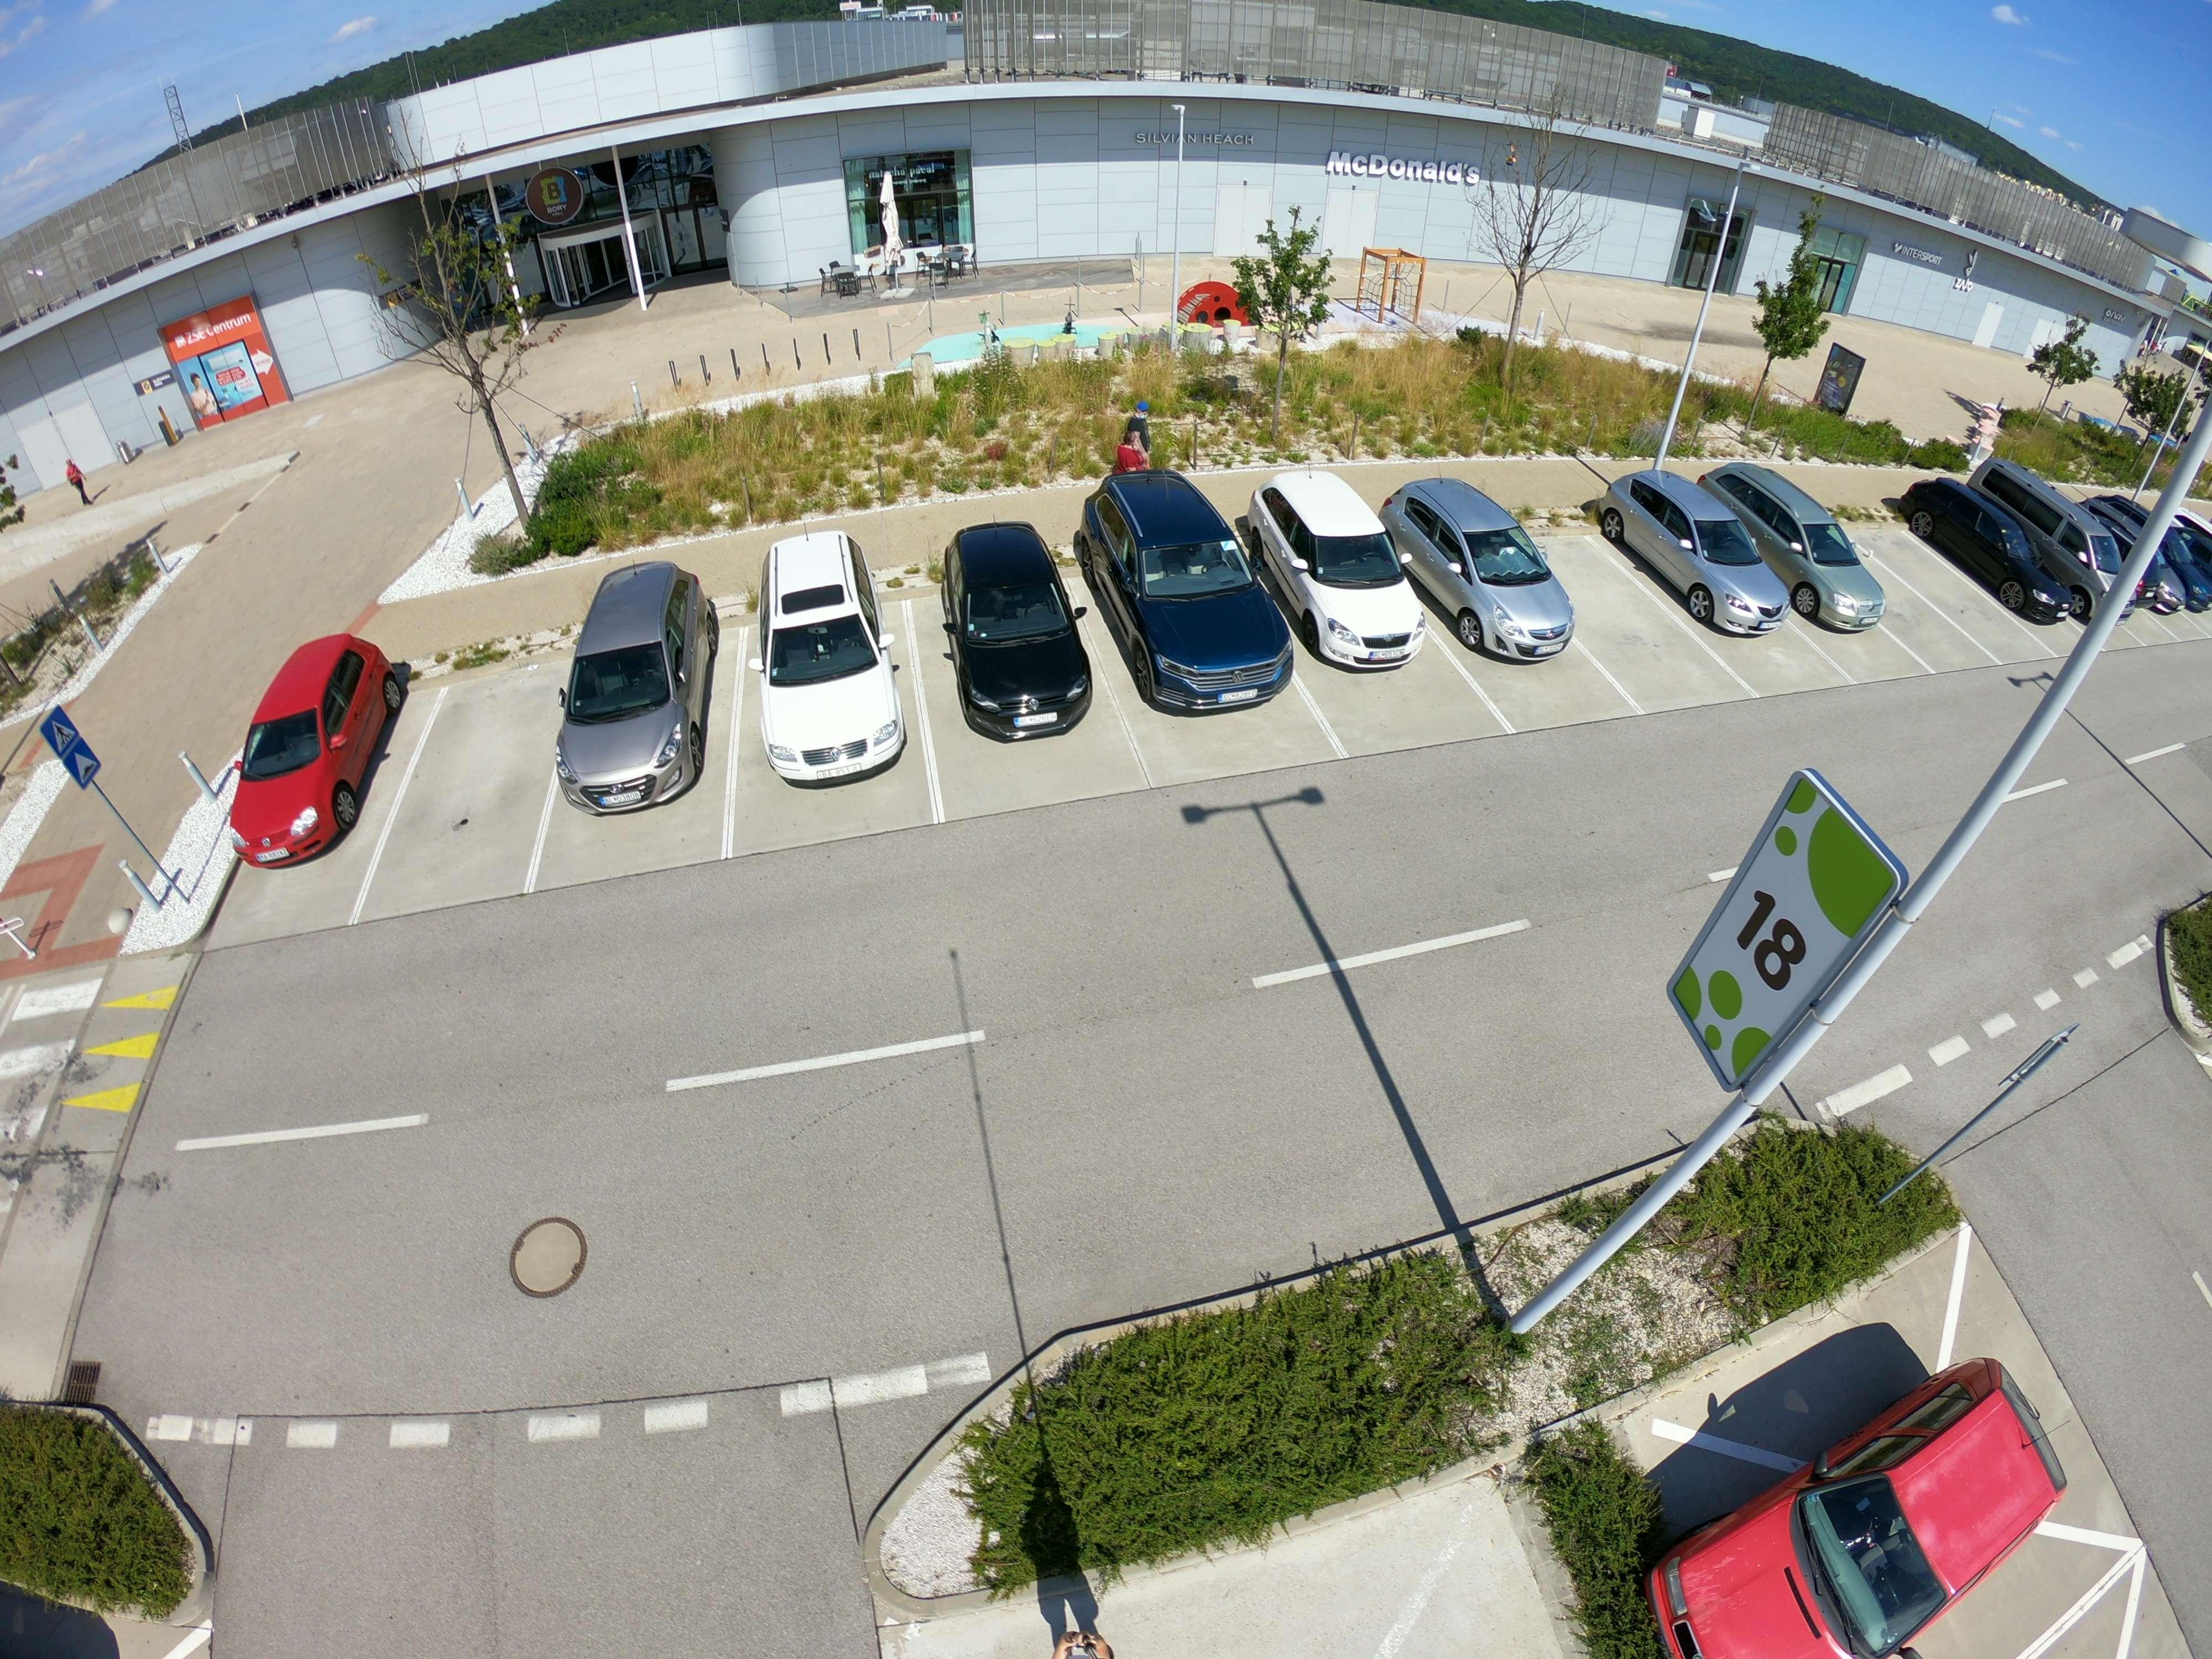empty: (1635, 1363, 2109, 1659), (1089, 477, 1310, 720), (742, 544, 925, 786), (547, 572, 732, 805), (211, 647, 409, 861), (932, 525, 1118, 742), (1256, 476, 1447, 676), (1409, 484, 1601, 662), (1902, 474, 2111, 626), (1606, 477, 1794, 634), (1730, 476, 1905, 634), (2139, 512, 2212, 624)
occupied: (421, 702, 557, 843), (1555, 556, 1651, 648), (1844, 566, 1940, 641), (1892, 525, 1973, 605)
